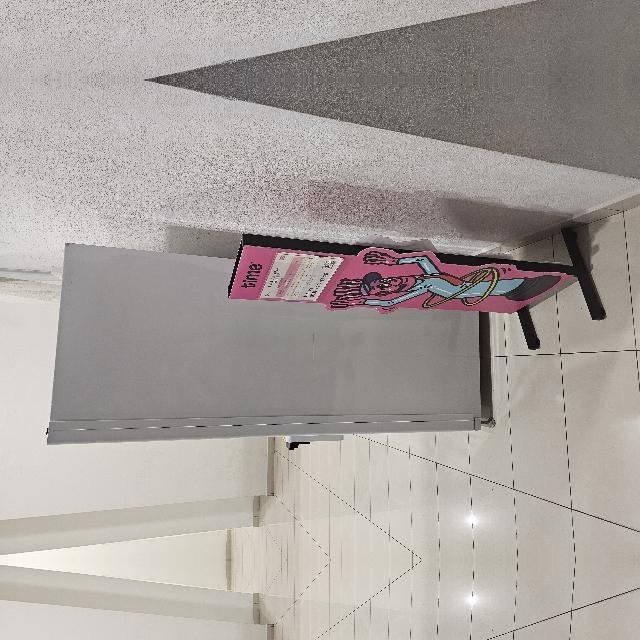obstacle: (102, 109, 274, 594), (219, 299, 350, 640), (219, 437, 350, 640), (102, 526, 274, 640), (102, 0, 274, 51)
